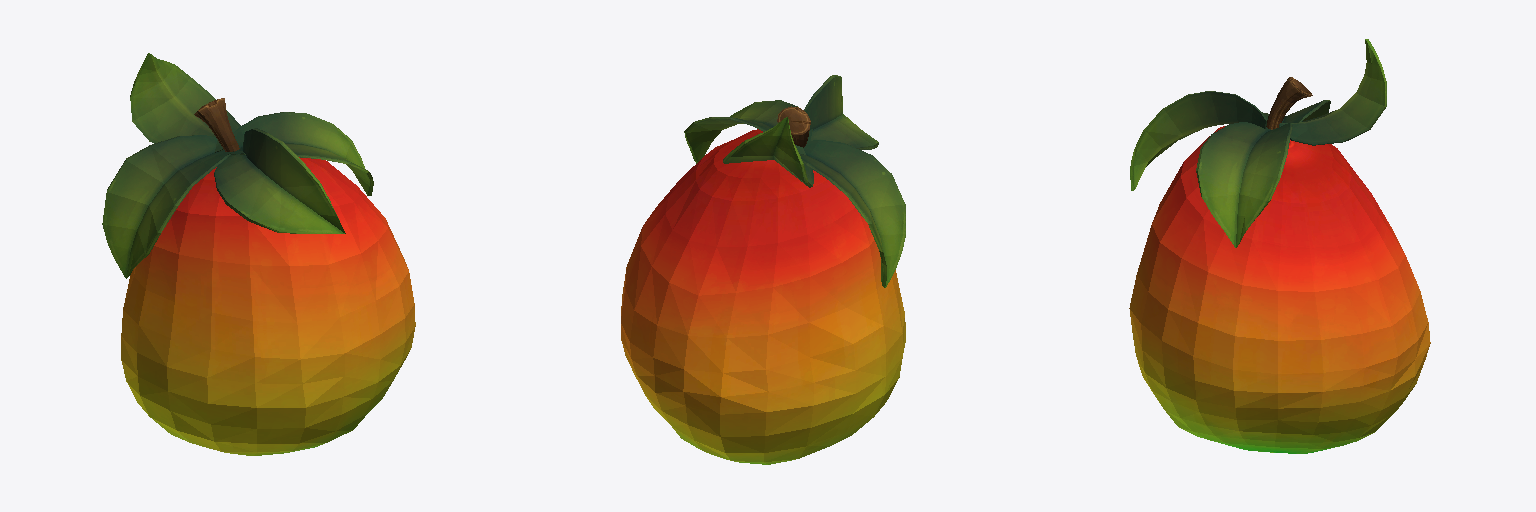
The picture shows the model from 3 angles: view 1: azimuth 30°, elevation 25°; view 2: azimuth 150°, elevation 25°; view 3: azimuth 270°, elevation 25°; orthographic projection.
Parts seen in each view (by area): view 1: SM_GP_Wumpa_Golden.mo_SM_GP_Wumpa_Golden.md; view 2: SM_GP_Wumpa_Golden.mo_SM_GP_Wumpa_Golden.md; view 3: SM_GP_Wumpa_Golden.mo_SM_GP_Wumpa_Golden.md.
Boxes of the visible parts, box(x1,y1,x2,y2) form: SM_GP_Wumpa_Golden.mo_SM_GP_Wumpa_Golden.md: box(102, 53, 415, 455); SM_GP_Wumpa_Golden.mo_SM_GP_Wumpa_Golden.md: box(621, 75, 905, 464); SM_GP_Wumpa_Golden.mo_SM_GP_Wumpa_Golden.md: box(1129, 39, 1430, 453).
Size of the model in its own units: 0.2922 by 0.3868 by 0.2833.
1 materials, 1 textured.